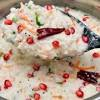curd_rice: (6, 7, 95, 97)
